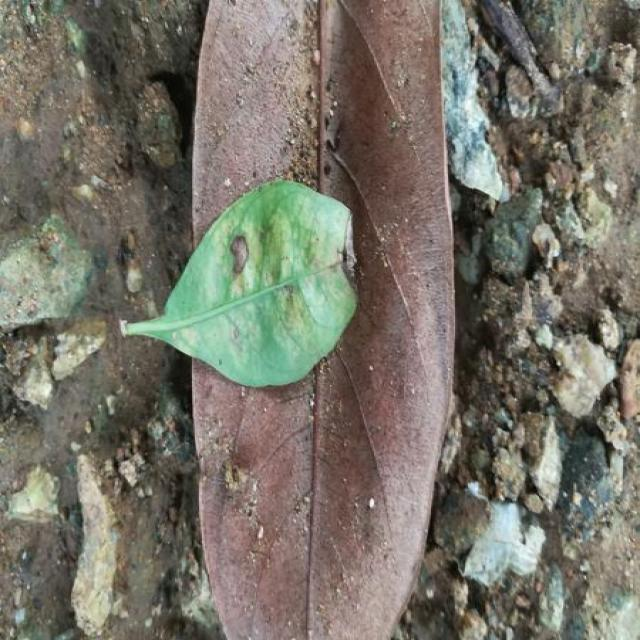henna: (122, 179, 357, 387)
leaf spot: (208, 210, 357, 384)
